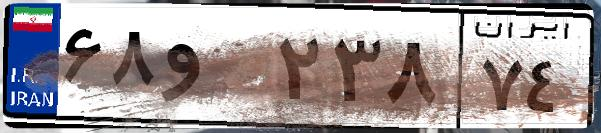2: (270, 28, 330, 110)
3: (330, 28, 385, 110)
4: (525, 38, 570, 115)
6: (57, 26, 110, 100)
7: (475, 38, 525, 113)
8: (385, 28, 445, 110), (110, 28, 158, 98)
و: (158, 20, 270, 120)
